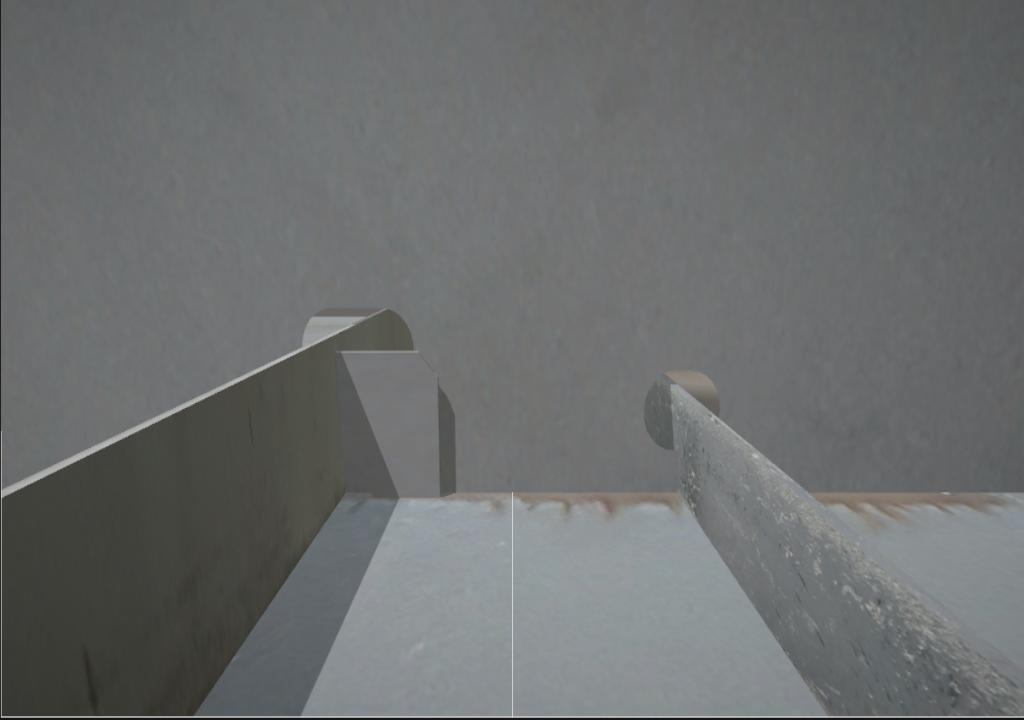fillet_yong_jeop_jang: (346, 483, 685, 500)
longi_yong_jeop_jang: (672, 443, 685, 503)
plate_CP04: (336, 353, 440, 501)
